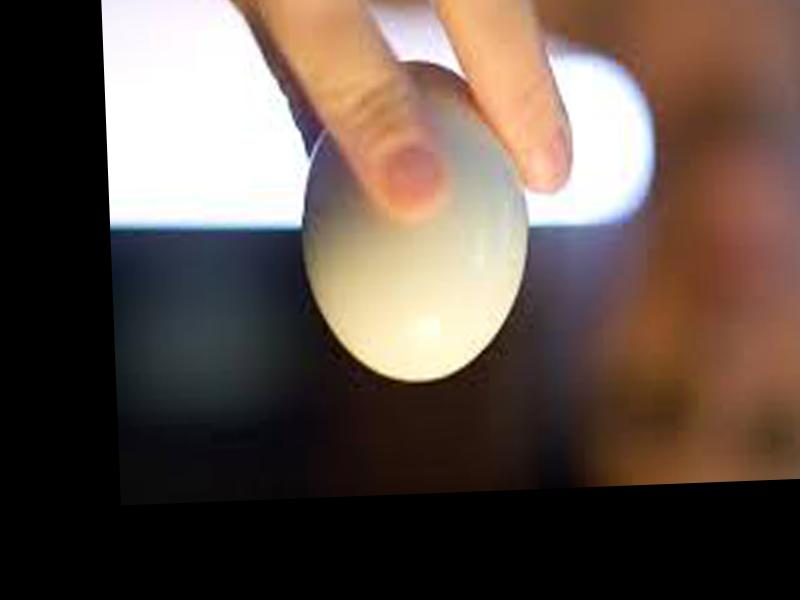Eggs: (299, 55, 538, 385)
